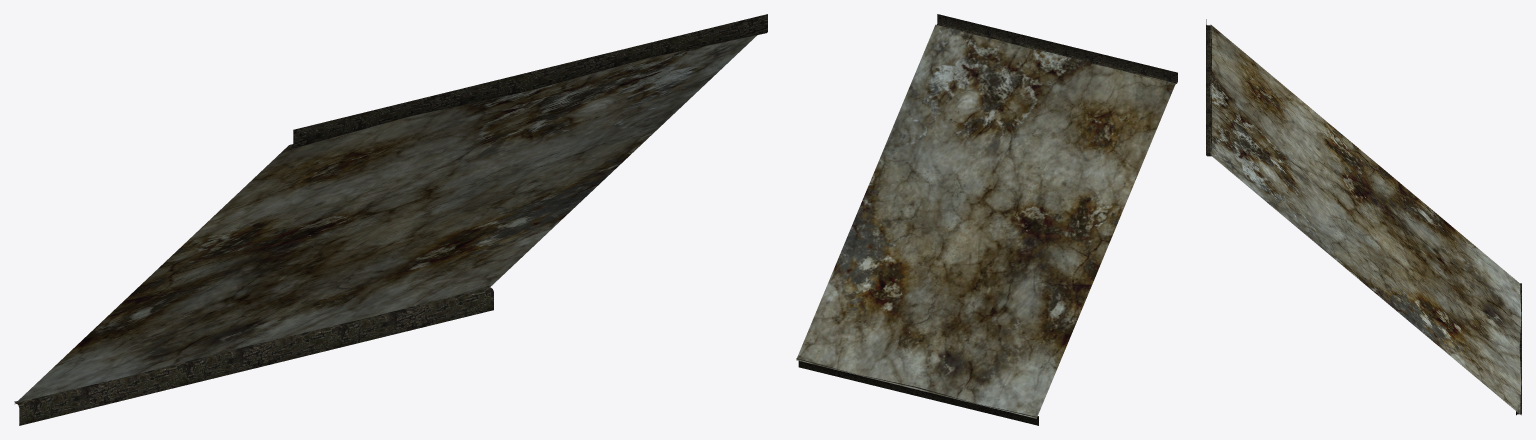
The model's file is cellar_ceiling_01.DAE.
3 renders of one model, left to right at view 1: azimuth 30°, elevation 25°; view 2: azimuth 150°, elevation 25°; view 3: azimuth 270°, elevation 25°, orthographic. The views are drawn at different scales.
Visible parts, largest first — view 1: Box019, Box021; view 2: Box019, Box021; view 3: Box019, Box021.
Boxes of the visible parts, left/top/right/bottom form: Box019: left=14, top=35, right=757, bottom=404; Box021: left=14, top=14, right=767, bottom=425; Box019: left=796, top=24, right=1175, bottom=418; Box021: left=796, top=14, right=1177, bottom=425; Box019: left=1210, top=24, right=1521, bottom=415; Box021: left=1206, top=19, right=1521, bottom=415.
Size of the model in its own units: 4 by 4 by 4.08.
